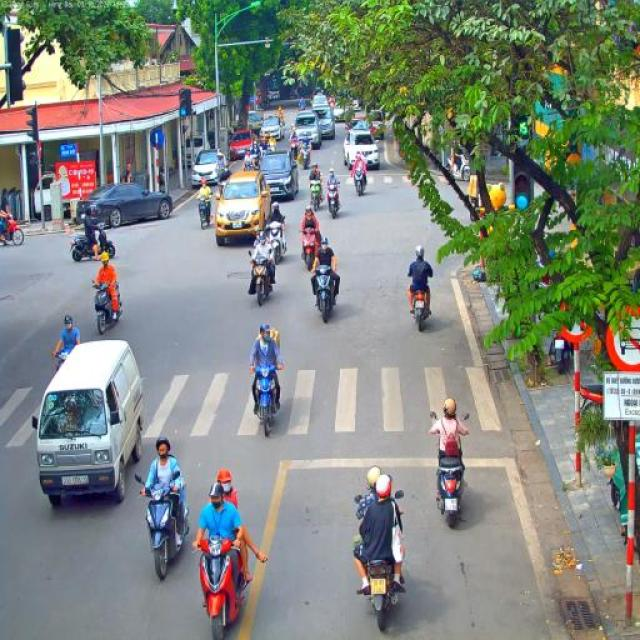car: (75, 181, 174, 229), (214, 169, 274, 247), (258, 149, 300, 201), (342, 129, 380, 172), (192, 148, 222, 191), (291, 110, 323, 149), (228, 129, 254, 161), (259, 116, 283, 150), (312, 106, 336, 140), (344, 118, 374, 138), (366, 111, 384, 141), (332, 101, 349, 123), (272, 115, 286, 139), (312, 94, 329, 112)
motorcycle: (191, 530, 251, 640), (134, 470, 190, 580), (430, 410, 470, 529), (360, 553, 404, 632), (249, 362, 283, 437), (69, 222, 116, 262), (93, 281, 123, 335), (312, 263, 336, 323), (251, 256, 273, 308), (548, 329, 572, 376), (265, 220, 286, 265), (300, 228, 321, 272), (0, 211, 25, 247), (413, 286, 432, 332), (449, 149, 472, 182), (579, 383, 603, 409), (52, 347, 77, 371), (324, 182, 340, 219), (198, 197, 214, 231), (215, 166, 231, 200), (308, 178, 323, 212), (353, 167, 367, 197), (299, 146, 312, 170), (289, 138, 300, 161), (255, 153, 264, 171), (244, 159, 256, 172), (260, 145, 269, 157), (269, 144, 276, 154)
truck: (32, 339, 144, 509), (232, 109, 262, 143), (254, 73, 280, 107)
